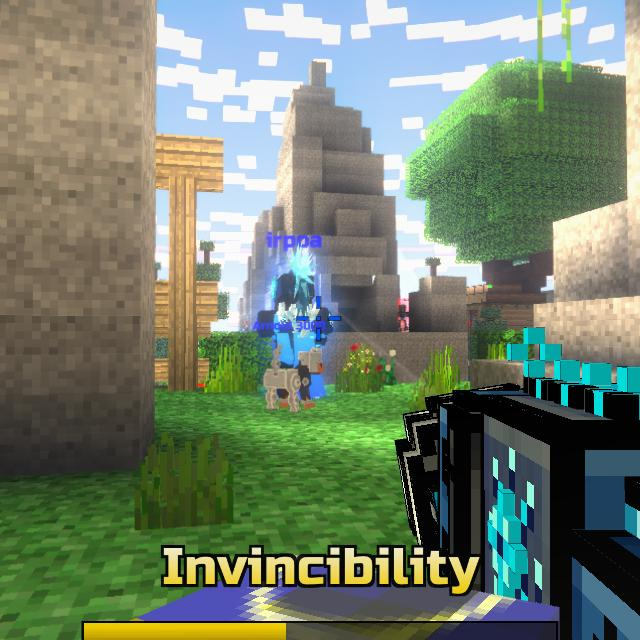Enemy: (397, 304, 409, 332)
